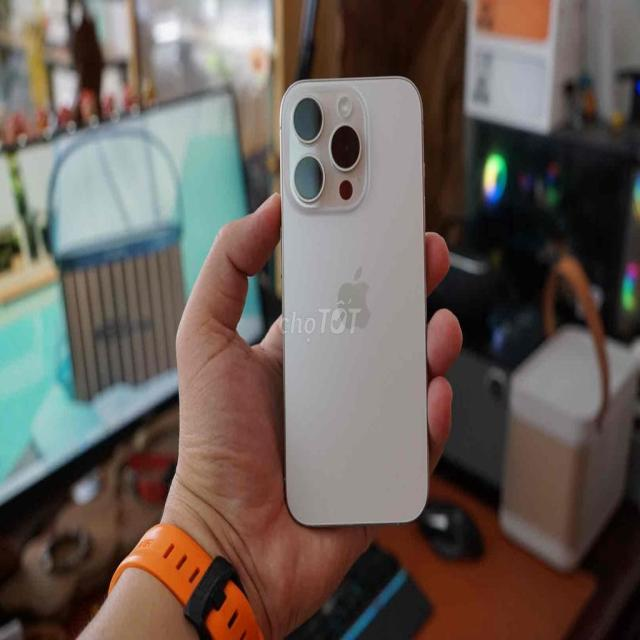gen_15: (266, 60, 438, 546)
